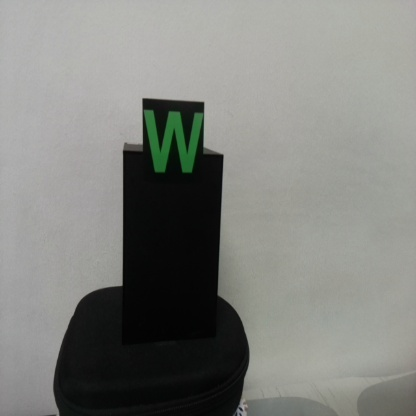id_12: (142, 96, 205, 196)
